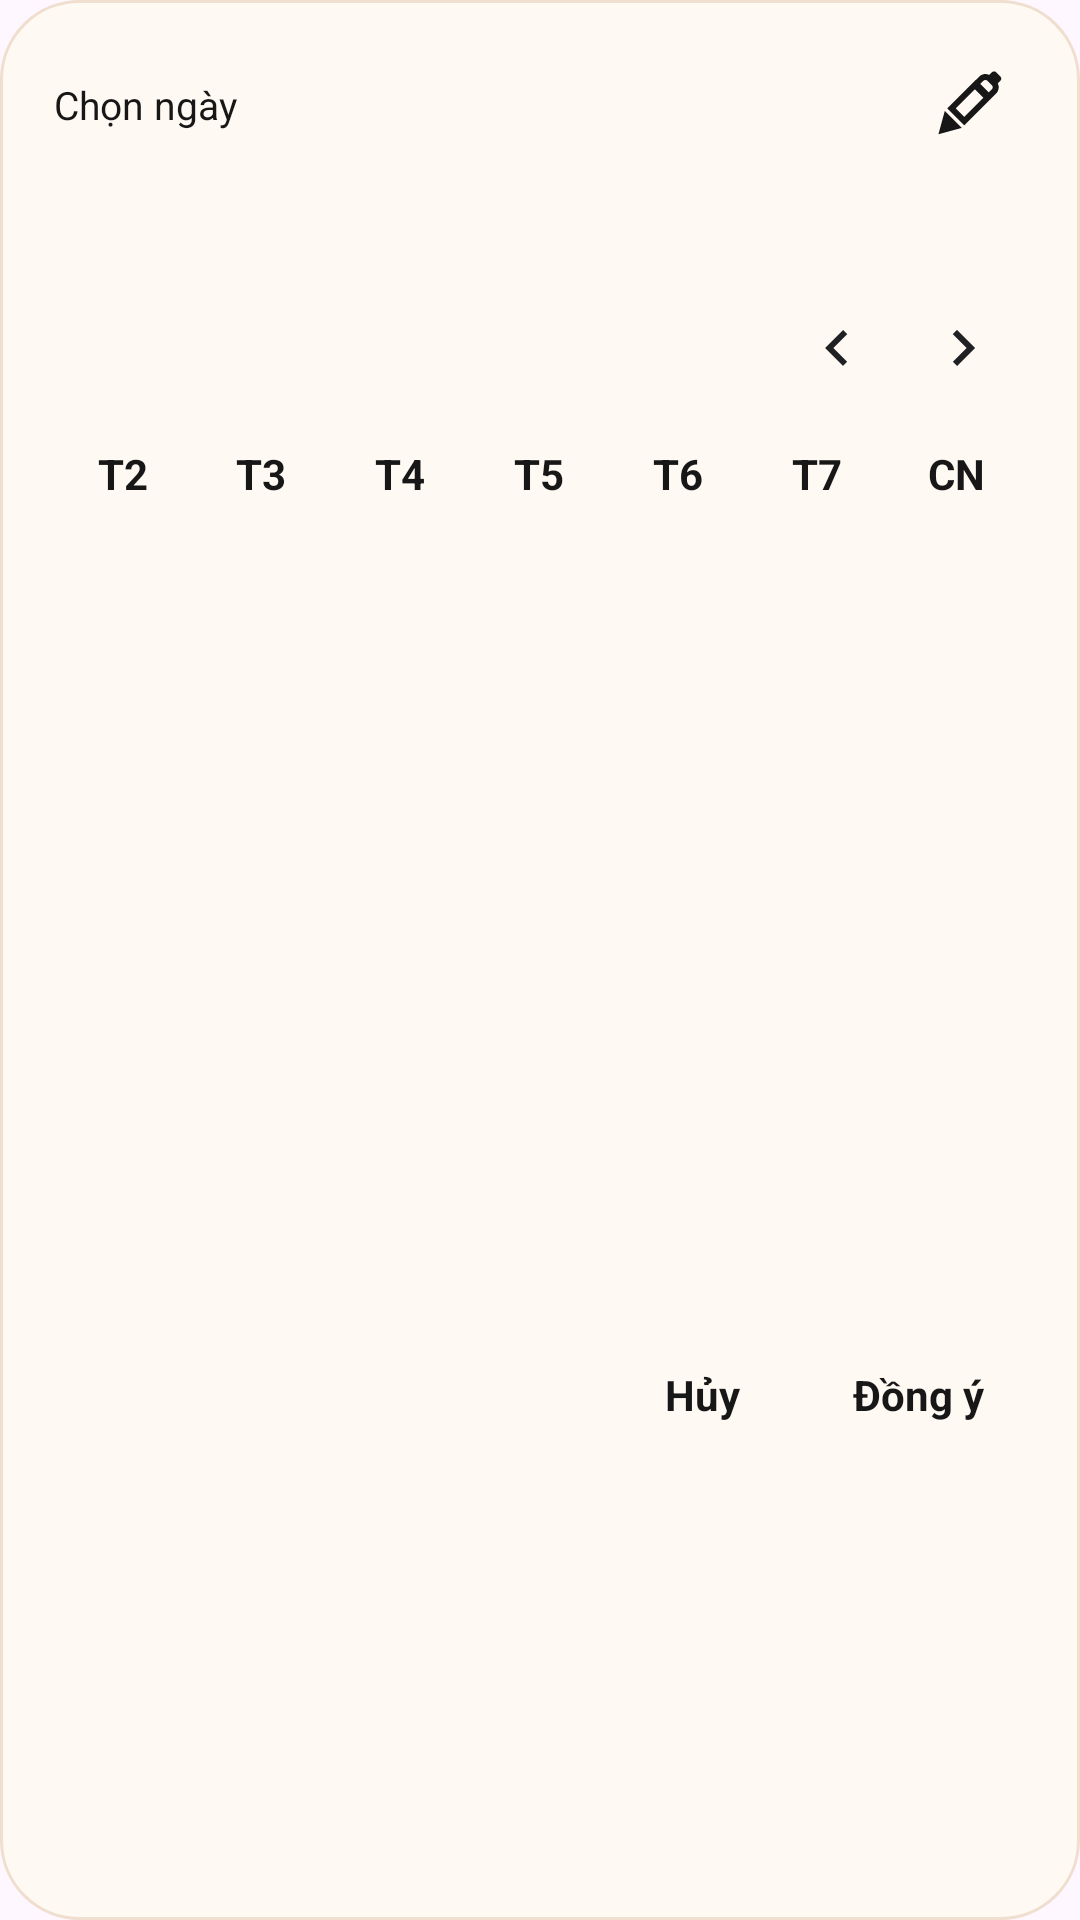

Icons on this 1080px x 1920px Android screen, each with its box as box=[x1, y1, x2, y2]:
arrow left: box=[825, 330, 847, 366]
arrow right: box=[953, 330, 975, 366]
Chỉnh sửa: box=[938, 71, 1002, 135]
